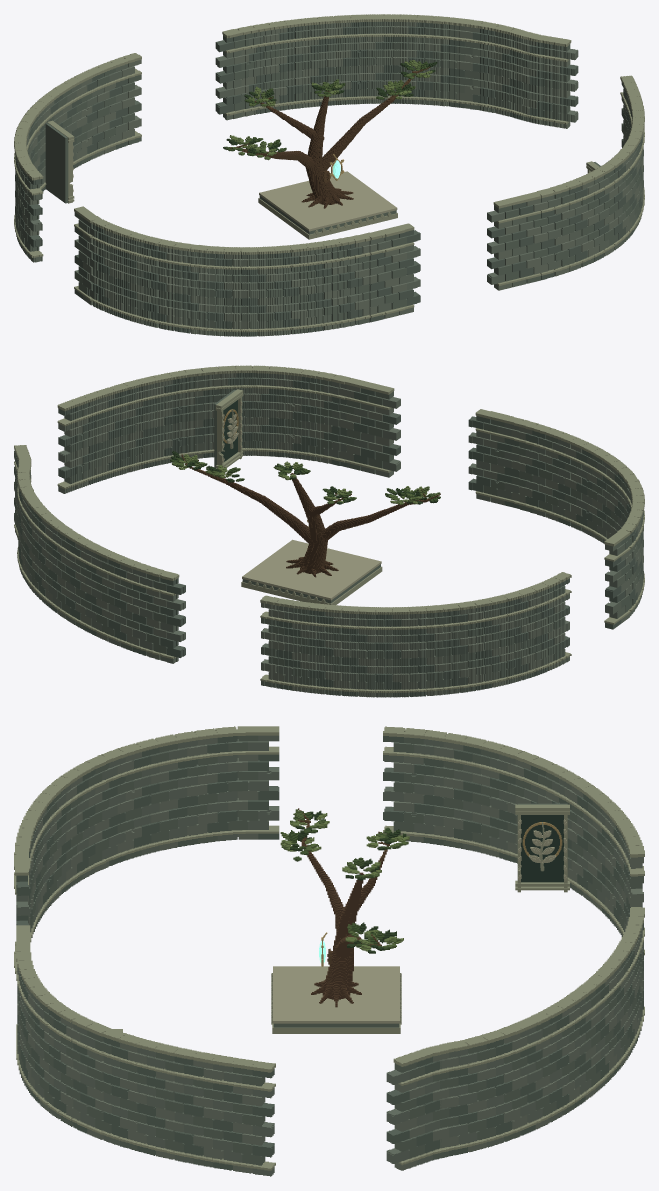
The picture shows the model from 3 angles, top to bottom: view 1: azimuth 30°, elevation 25°; view 2: azimuth 150°, elevation 25°; view 3: azimuth 270°, elevation 25°; orthographic projection. The views are drawn at different scales.
Visible parts, largest first — view 1: CarvedMasonry_2_-2_00, CarvedMasonry_1_-3_00, CarvedMasonry_-2_2_00, CarvedMasonry_-3_2_00, CarvedMasonry_0_-3_00, CarvedMasonry_1_2_00, CarvedMasonry_-4_1_00, CarvedMasonry_-2_-3_00, RootIslandPlinth_00, CarvedMasonry_0_2_00, CarvedMasonry_-1_2_00, CarvedMasonry_3_-1_00 (+15 smaller); view 2: CarvedMasonry_-2_-3_00, CarvedMasonry_1_2_00, CarvedMasonry_-3_-3_00, CarvedMasonry_0_-3_00, CarvedMasonry_-2_2_00, CarvedMasonry_-4_-2_00, CarvedMasonry_2_1_00, CarvedMasonry_1_-3_00, RootIslandPlinth_00, CarvedMasonry_3_0_00, CarvedMasonry_0_2_00, CarvedMasonry_-1_2_00 (+15 smaller); view 3: CarvedMasonry_2_-2_00, CarvedMasonry_-4_-2_00, CarvedMasonry_-4_1_00, CarvedMasonry_2_1_00, CarvedMasonry_-4_0_00, CarvedMasonry_3_0_00, RootIslandPlinth_00, CarvedMasonry_1_-3_00, CarvedMasonry_-3_2_00, CarvedMasonry_3_-1_00, CarvedMasonry_2_2_00, CarvedMasonry_-4_-1_00 (+15 smaller).
Boxes of the visible parts, <box> form: CarvedMasonry_2_-2_00: <box>424,16,528,120</box>; CarvedMasonry_1_-3_00: <box>294,14,400,107</box>; CarvedMasonry_-2_2_00: <box>282,233,377,334</box>; CarvedMasonry_-3_2_00: <box>206,245,291,336</box>; CarvedMasonry_0_-3_00: <box>215,19,303,120</box>; CarvedMasonry_1_2_00: <box>533,169,609,280</box>; CarvedMasonry_-4_1_00: <box>110,228,182,330</box>; CarvedMasonry_-2_-3_00: <box>63,57,134,168</box>; RootIslandPlinth_00: <box>258,171,397,239</box>; CarvedMasonry_0_2_00: <box>487,192,541,290</box>; CarvedMasonry_-1_2_00: <box>366,223,420,322</box>; CarvedMasonry_3_-1_00: <box>529,35,578,128</box>; CarvedMasonry_-2_-3_00: <box>268,598,367,696</box>; CarvedMasonry_1_2_00: <box>260,366,354,467</box>; CarvedMasonry_-3_-3_00: <box>358,605,443,697</box>; CarvedMasonry_0_-3_00: <box>107,553,185,663</box>; CarvedMasonry_-2_2_00: <box>511,420,588,531</box>; CarvedMasonry_-4_-2_00: <box>473,582,549,690</box>; CarvedMasonry_2_1_00: <box>135,368,211,468</box>; CarvedMasonry_1_-3_00: <box>47,519,114,641</box>; RootIslandPlinth_00: <box>241,539,382,605</box>; CarvedMasonry_3_0_00: <box>57,387,116,493</box>; CarvedMasonry_0_2_00: <box>346,378,400,477</box>; CarvedMasonry_-1_2_00: <box>468,409,523,508</box>; CarvedMasonry_2_-2_00: <box>444,1012,556,1156</box>; CarvedMasonry_-4_-2_00: <box>423,730,522,862</box>; CarvedMasonry_-4_1_00: <box>116,731,207,860</box>; CarvedMasonry_2_1_00: <box>80,1022,166,1155</box>; CarvedMasonry_-4_0_00: <box>194,726,279,843</box>; CarvedMasonry_3_0_00: <box>193,1051,275,1176</box>; RootIslandPlinth_00: <box>271,966,401,1033</box>; CarvedMasonry_1_-3_00: <box>564,950,629,1107</box>; CarvedMasonry_-3_2_00: <box>33,761,96,909</box>; CarvedMasonry_3_-1_00: <box>386,1048,441,1170</box>; CarvedMasonry_2_2_00: <box>38,993,96,1133</box>; CarvedMasonry_-4_-1_00: <box>383,726,435,842</box>.
Bounding box in the file's own units: 41.82 × 8.43 × 32.52.
